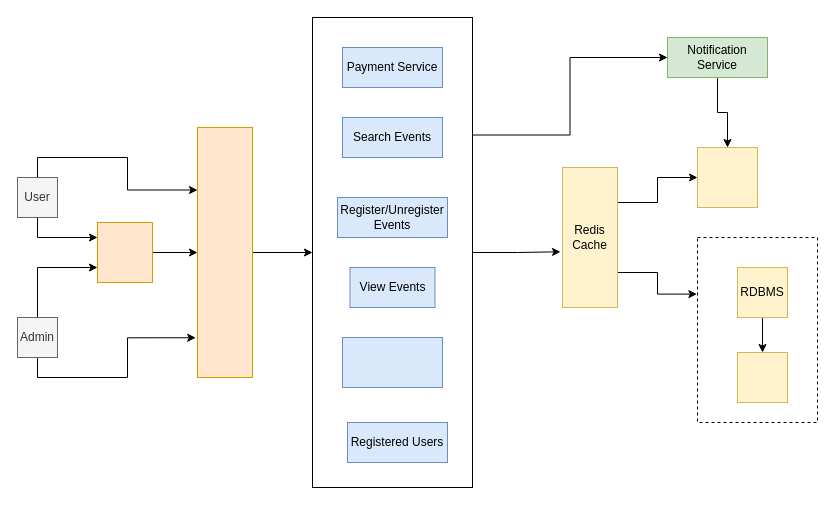
This 835x505 diagram has some shape labels left out. Here are the shapes that lost their labels. From the top down, the box of each, then its label:
(696, 146, 758, 208): Elastic Search
(96, 222, 152, 282): CDN
(196, 126, 252, 378): Load Balancer
(342, 336, 442, 388): Create/Update/Delete Events
(736, 352, 788, 402): Master Slave
